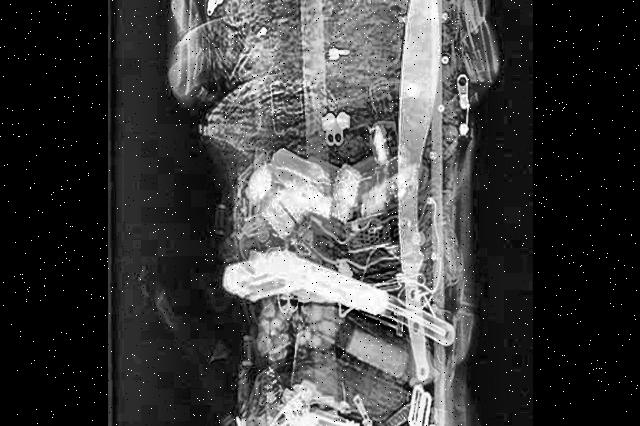Gun: (214, 242, 456, 348)
